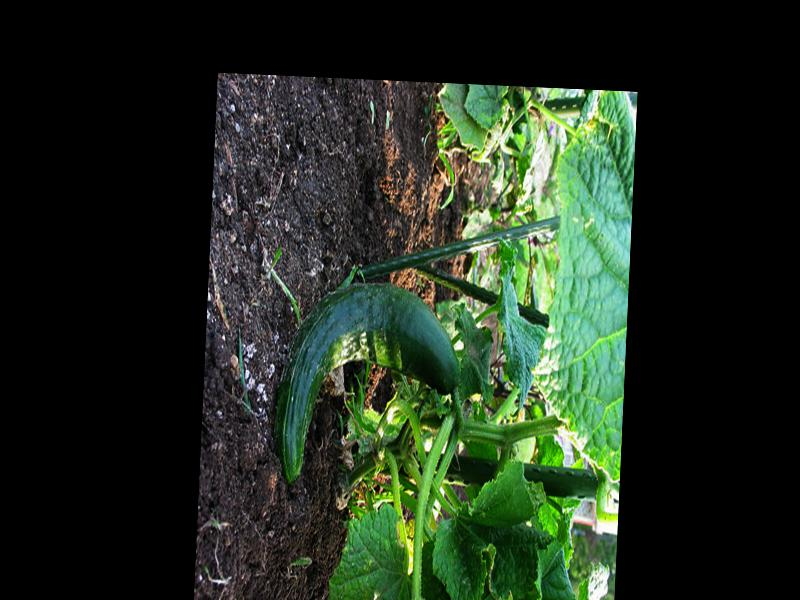Cucumber: (271, 277, 464, 492)
